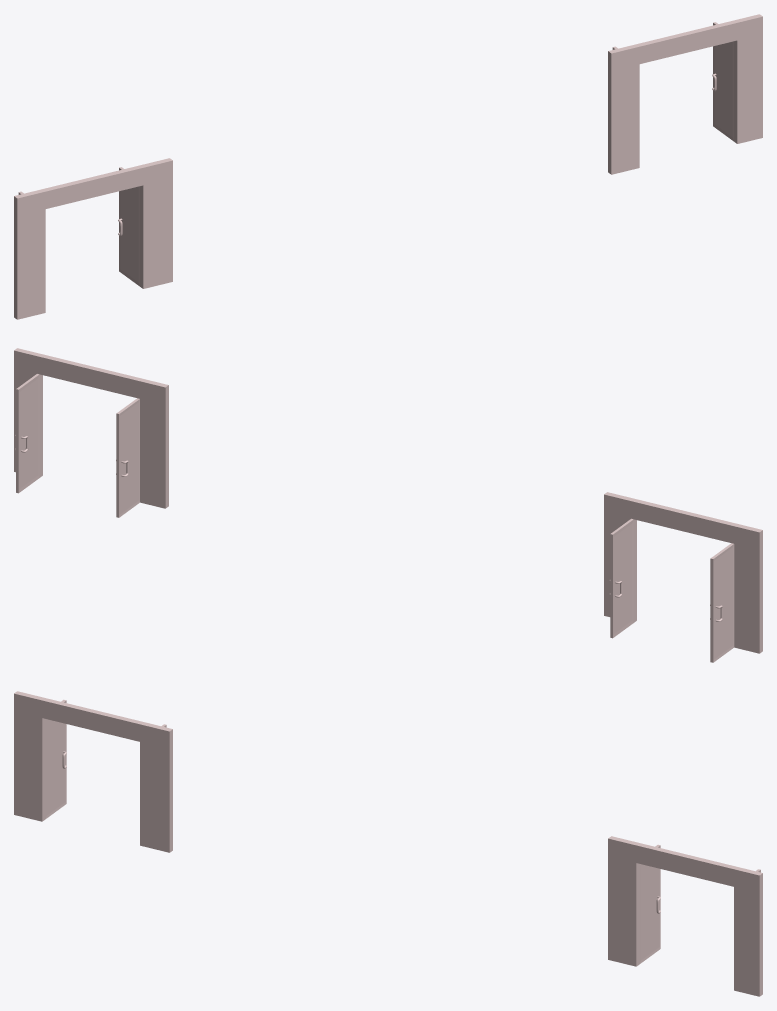
File: Caf_doorway.fbx
The picture shows the model from 3 angles, top to bottom: view 1: azimuth 30°, elevation 25°; view 2: azimuth 150°, elevation 25°; view 3: azimuth 330°, elevation 25°; orthographic projection.
Visible parts, largest first — view 1: Left_doorway, Right_doorway; view 2: Left_doorway, Right_doorway; view 3: Left_doorway, Right_doorway.
Boxes of the visible parts, box(x1,y1,x2,y2) form: Left_doorway: box(14, 158, 172, 319); Right_doorway: box(608, 14, 762, 174); Left_doorway: box(604, 492, 762, 662); Right_doorway: box(14, 348, 168, 517); Left_doorway: box(14, 691, 172, 852); Right_doorway: box(608, 836, 762, 996).
Size of the model in its own units: 1994 by 310 by 112.
